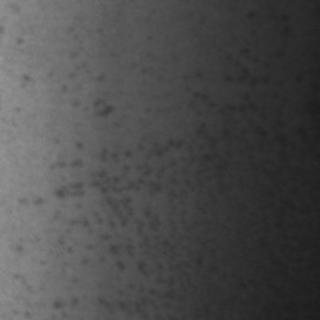pitted_surface: (30, 32, 238, 304)
